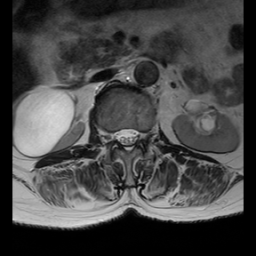CCS_normal: (123, 122, 130, 154)
LFS_normal: (138, 125, 145, 147)
LLS_normal: (131, 124, 138, 149)
RFS_normal: (107, 124, 115, 148)
RLS_normal: (115, 124, 123, 149)
